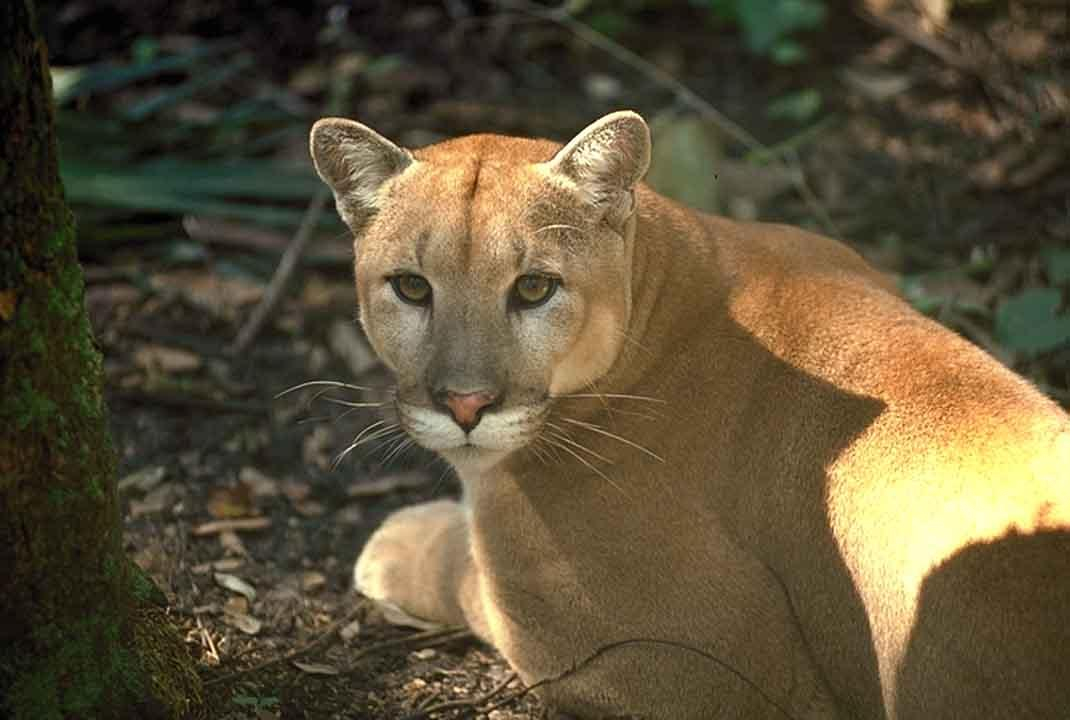panther: (305, 106, 1070, 719)
